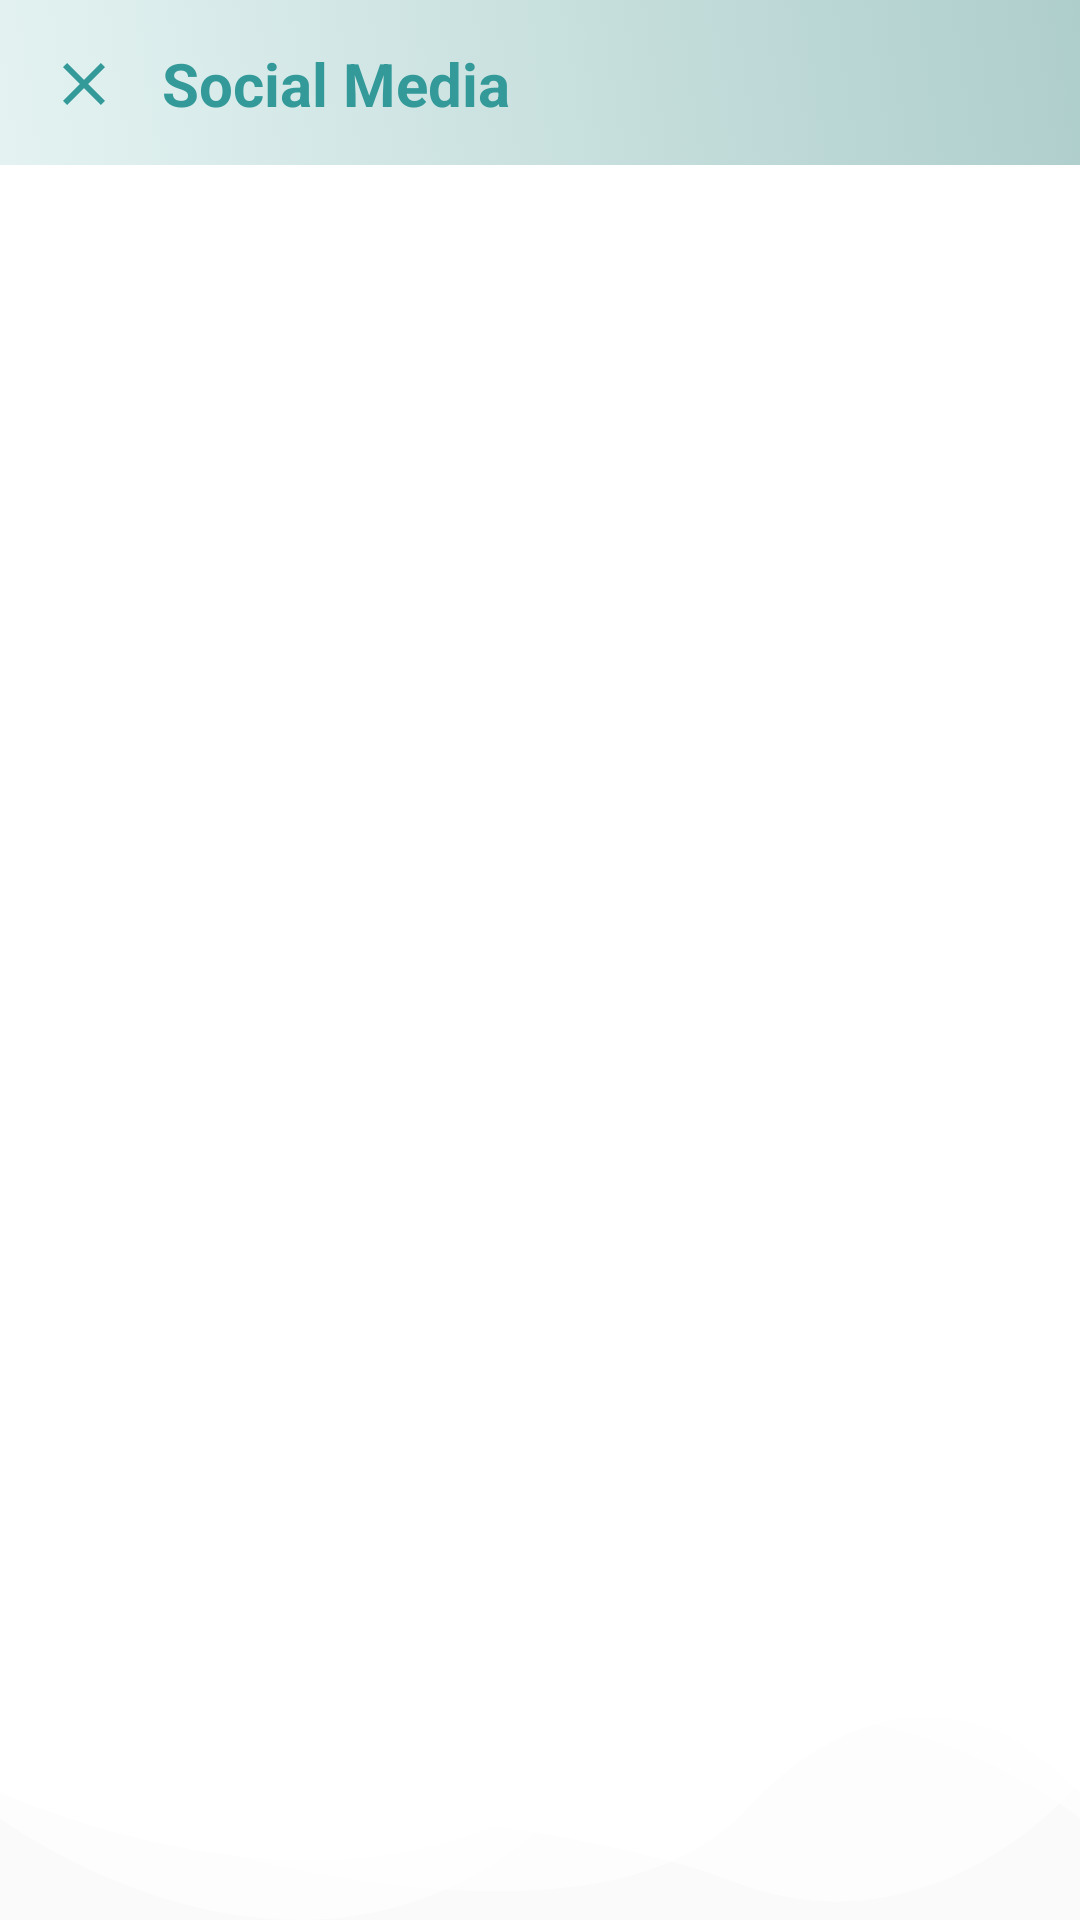

Icons on this 1080px×1920px Android screen, each with its box as box(x1, y1, x2, y2):
close: box(63, 63, 105, 105)
